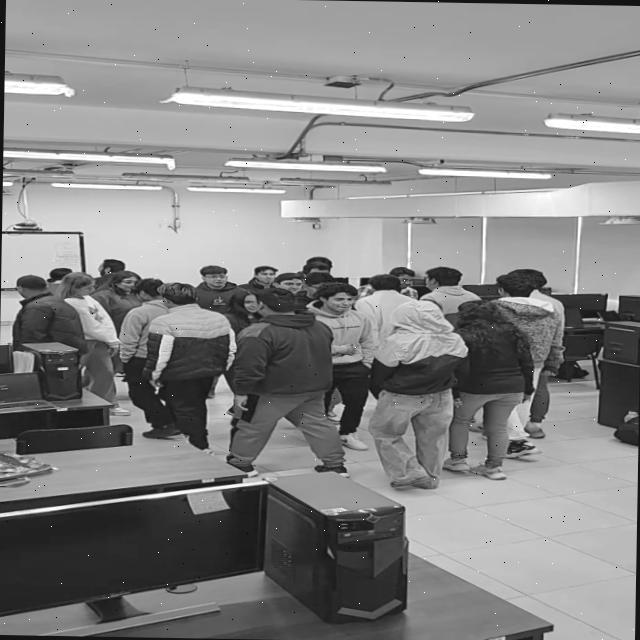Persona: (238, 292, 335, 460), (374, 305, 456, 478), (150, 283, 234, 440), (452, 298, 522, 468), (311, 286, 378, 437), (62, 268, 124, 401), (12, 270, 72, 359), (188, 261, 238, 307)
